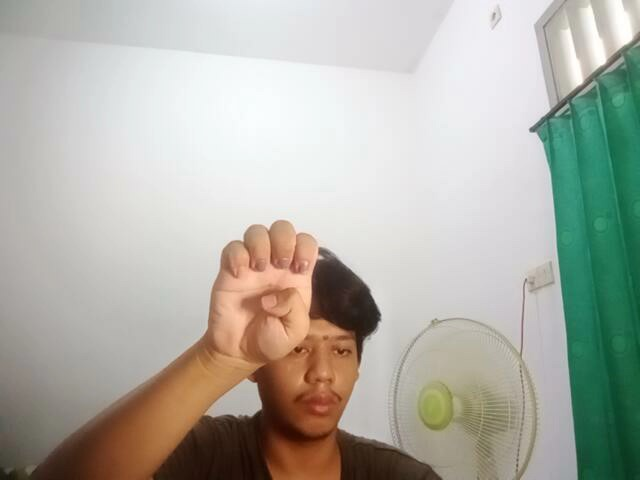E: (193, 211, 321, 366)
